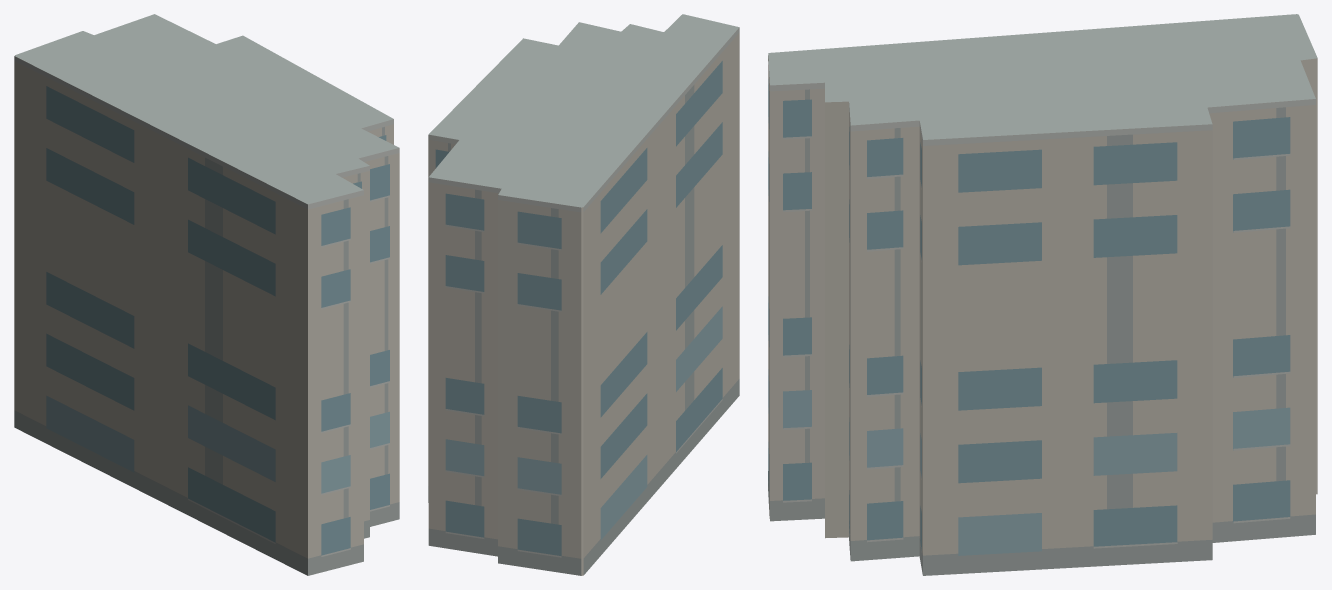
File: survey-upis-32648254.glb
The picture shows the model from 3 angles, left to right: view 1: azimuth 30°, elevation 25°; view 2: azimuth 150°, elevation 25°; view 3: azimuth 270°, elevation 25°; orthographic projection. The views are drawn at different scales.
Parts seen in each view (by area): view 1: survey-upis-32648254.tmp; view 2: survey-upis-32648254.tmp; view 3: survey-upis-32648254.tmp.
Boxes of the visible parts, x1,y1,x2,y2 form: survey-upis-32648254.tmp: (14, 14, 399, 575); survey-upis-32648254.tmp: (428, 14, 739, 575); survey-upis-32648254.tmp: (768, 14, 1317, 575).
Bounding box in the file's own units: 11.05 × 17.8 × 20.35.
